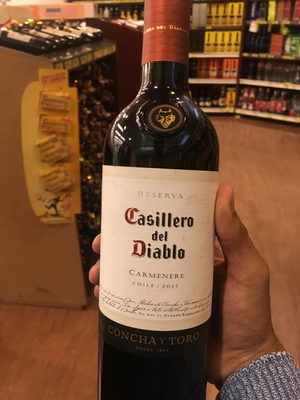casillero del diablo carmenere: (83, 16, 229, 400)
